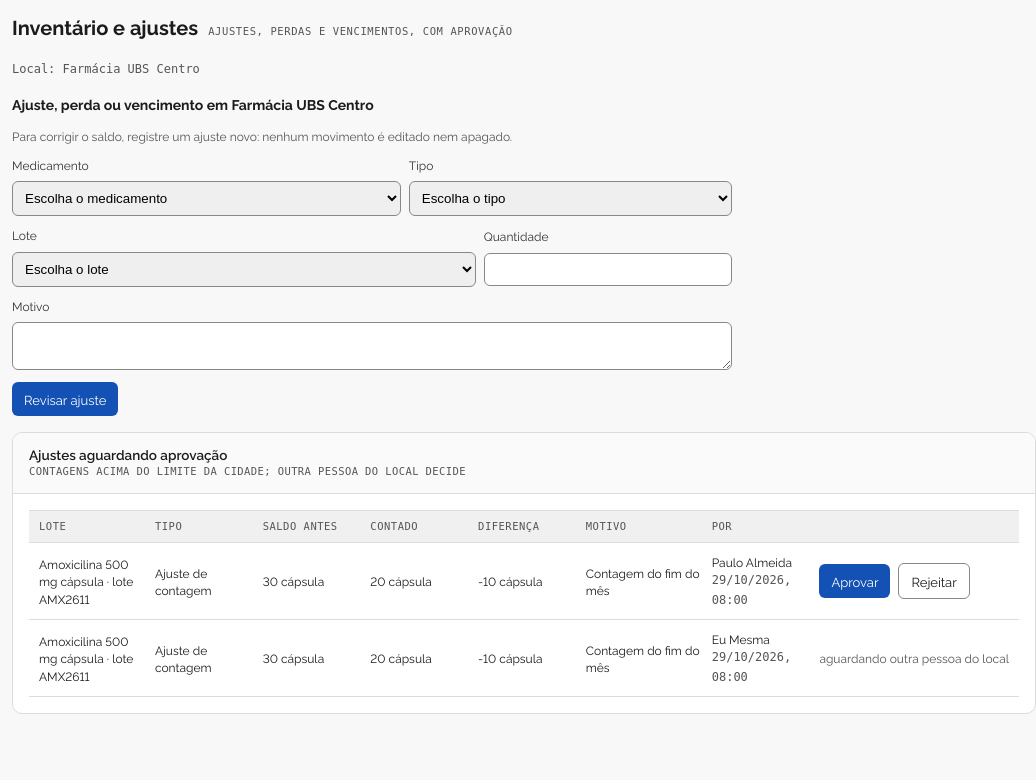
Test: PharmacyAdjustments › contagem: a diferença antes; step-up; ajuste acima do limite fica pendente
This screenshot has width=1036, height=780.
Select "Amoxicilina 500 mg cápsula — saldo 30 cápsula" in the dropdown labelled "Medicamento" at [206, 199], box [12, 182, 401, 216]
Select "AMX2611 · vence 20/11/2026 · saldo 30 cápsula" in the dropdown labelled "Lote" at [244, 269], box [12, 252, 476, 287]
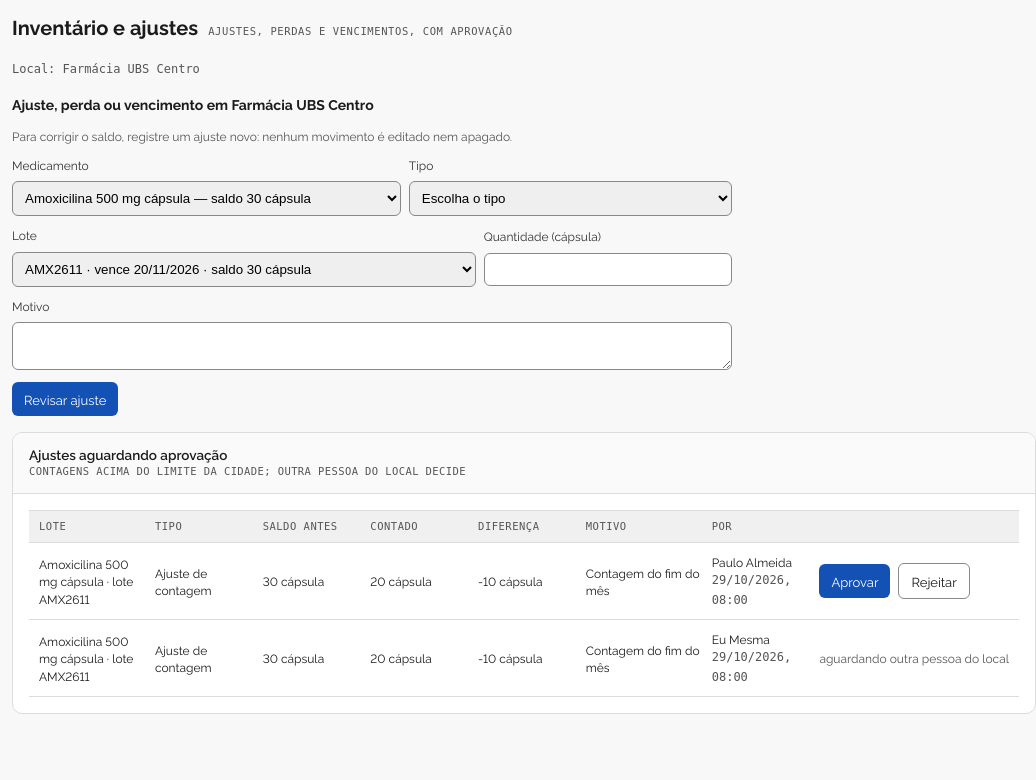
Select "Contagem de inventário" in the dropdown labelled "Tipo" at [570, 199], box [409, 182, 732, 216]
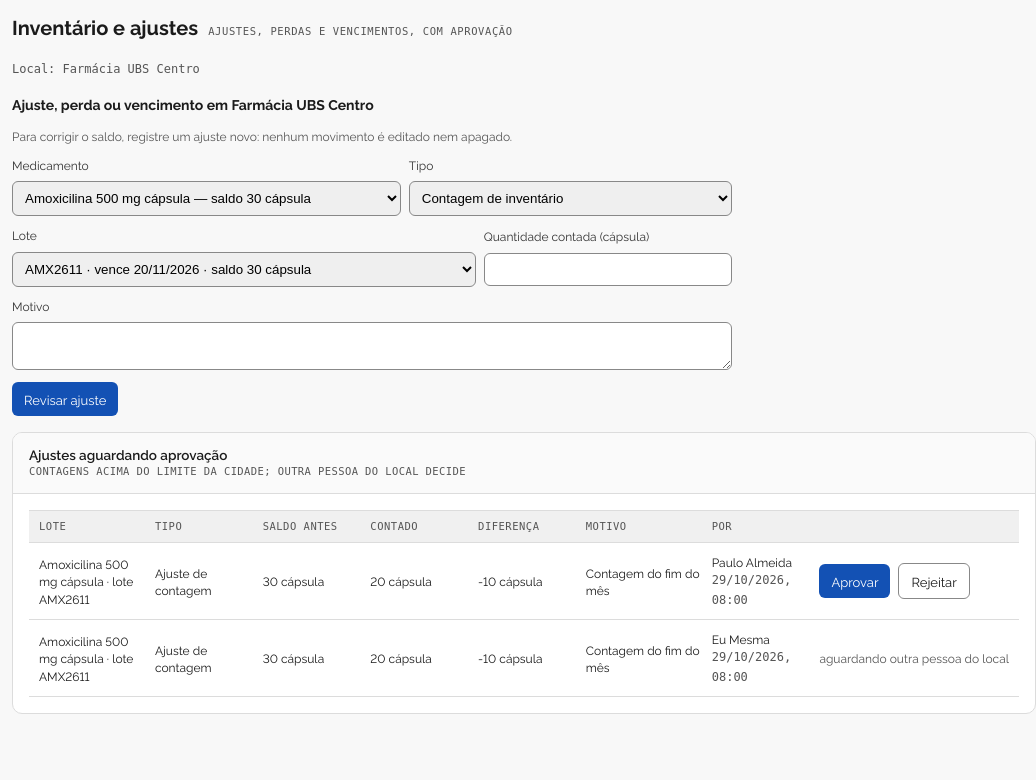
Type "20" into the field labelled "Quantidade contada" at [608, 269], box [484, 253, 732, 286]
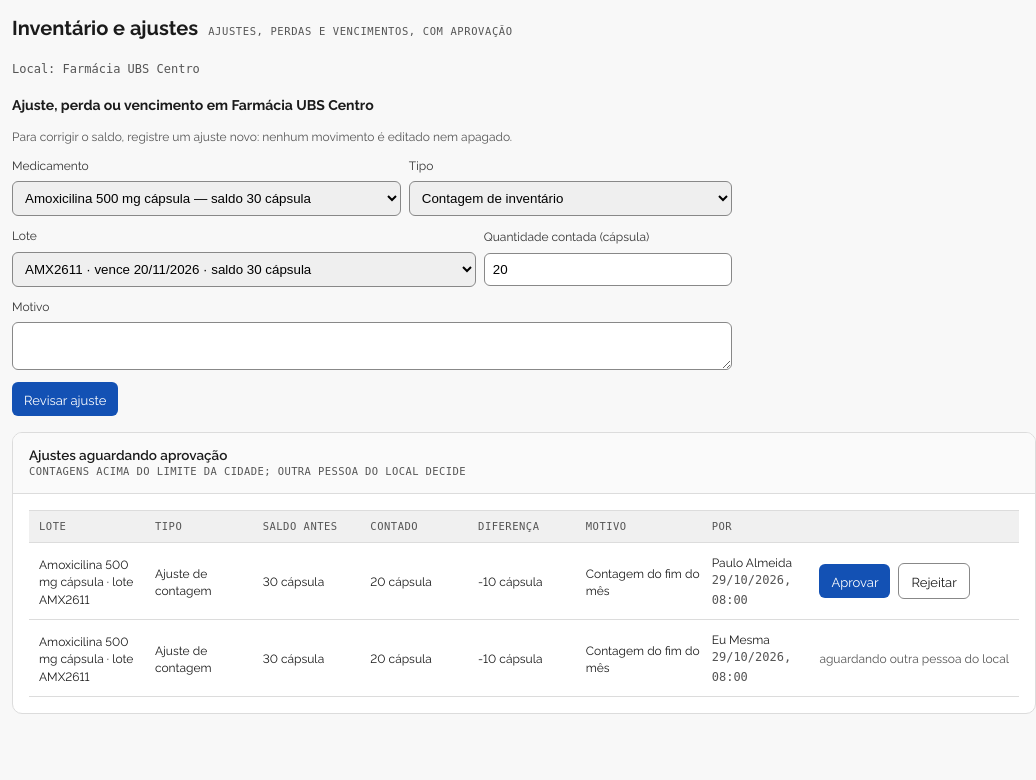
Type "contagem do fim do mês" into the text box labelled "Motivo" at [372, 346], box [12, 322, 732, 370]
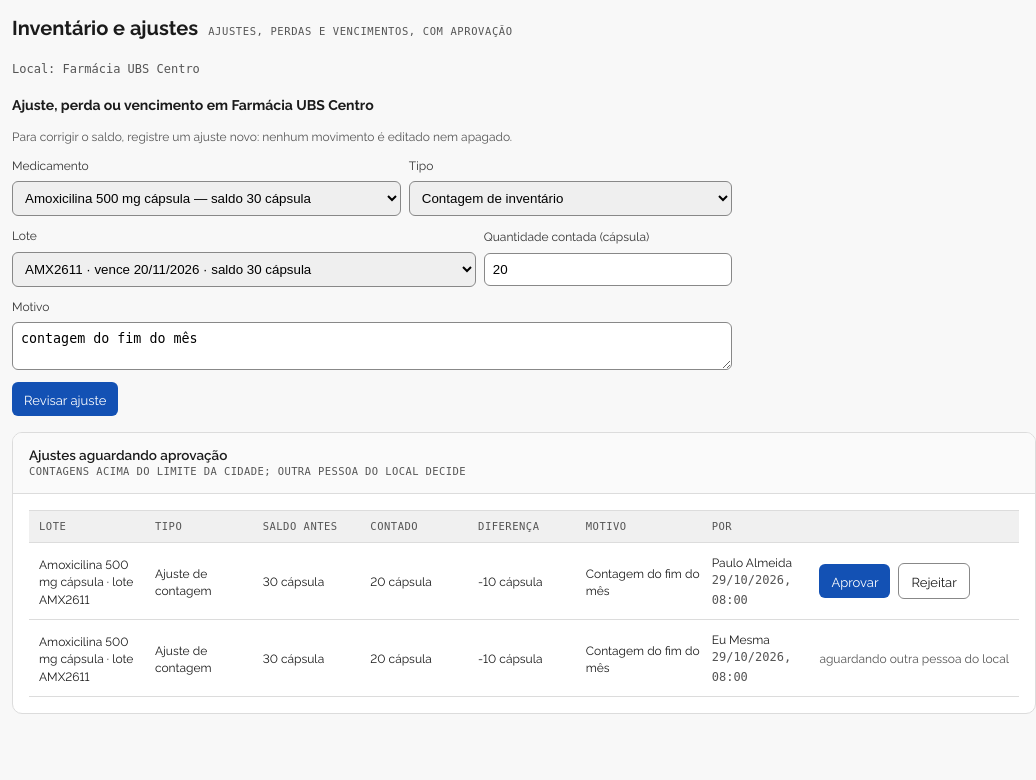
Click the button "Revisar ajuste" at [65, 399], box [12, 382, 118, 416]
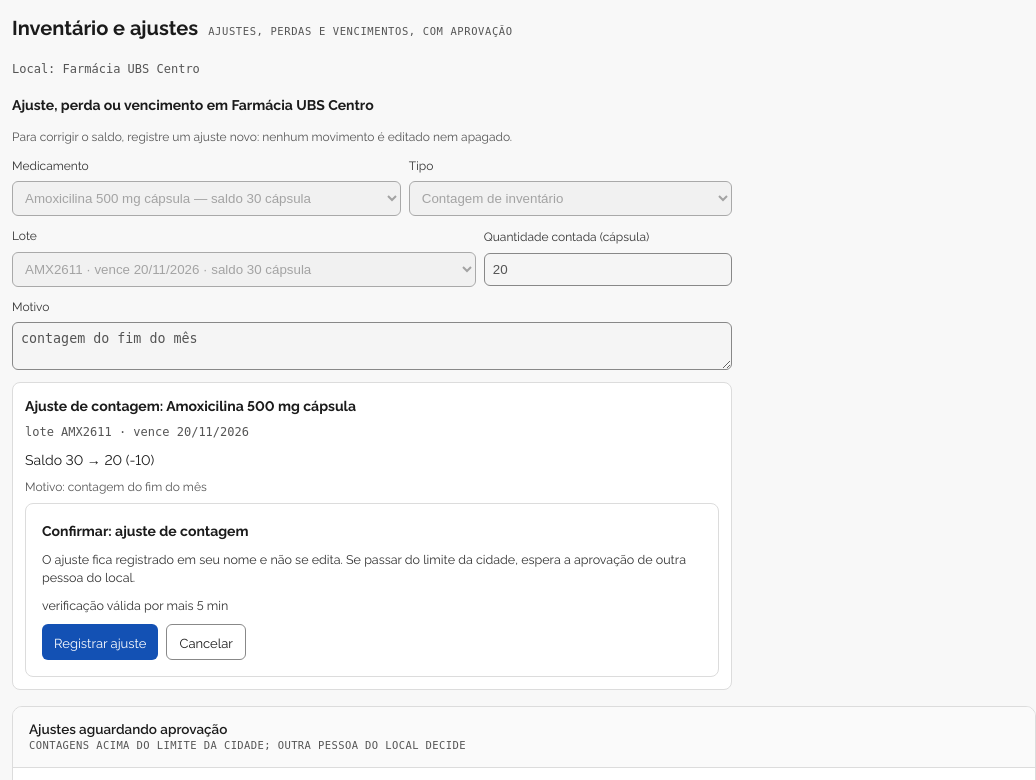
Expected: the text "Saldo 30 → 20 (-10)" is shown, [25, 449, 154, 468]
Click the button "Registrar ajuste" at [100, 642], box [42, 624, 158, 660]
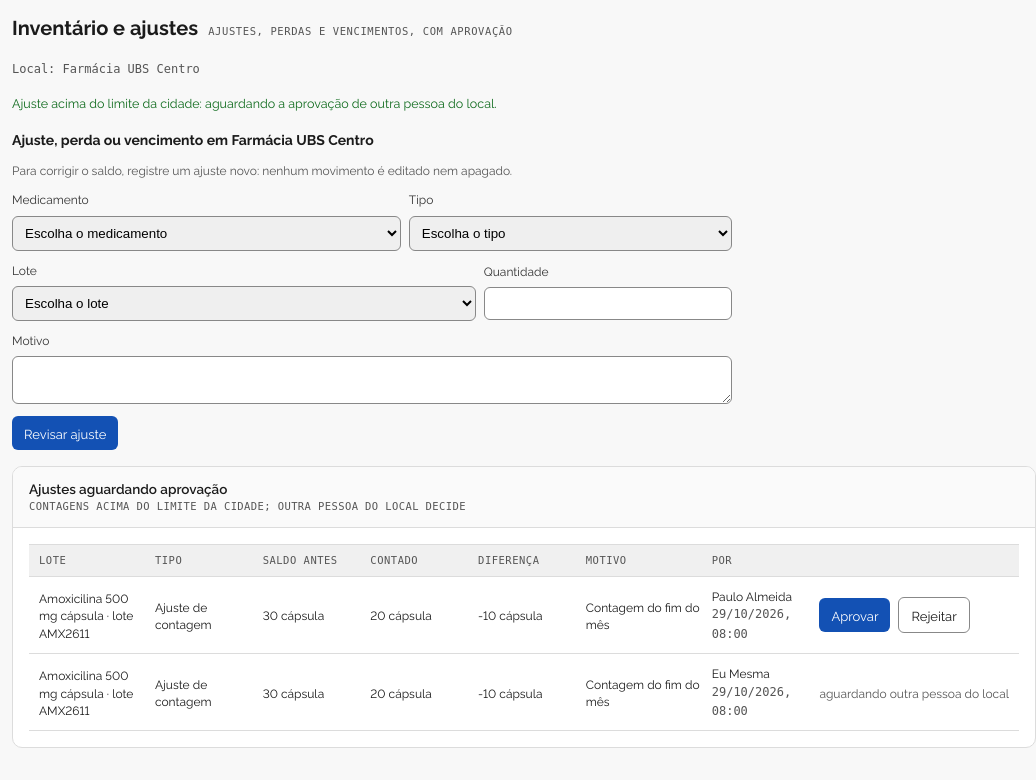
Expected: the message shows "Ajuste acima do limite da cidade: aguardando a aprovação de outra pessoa do local.", [12, 94, 497, 111]
